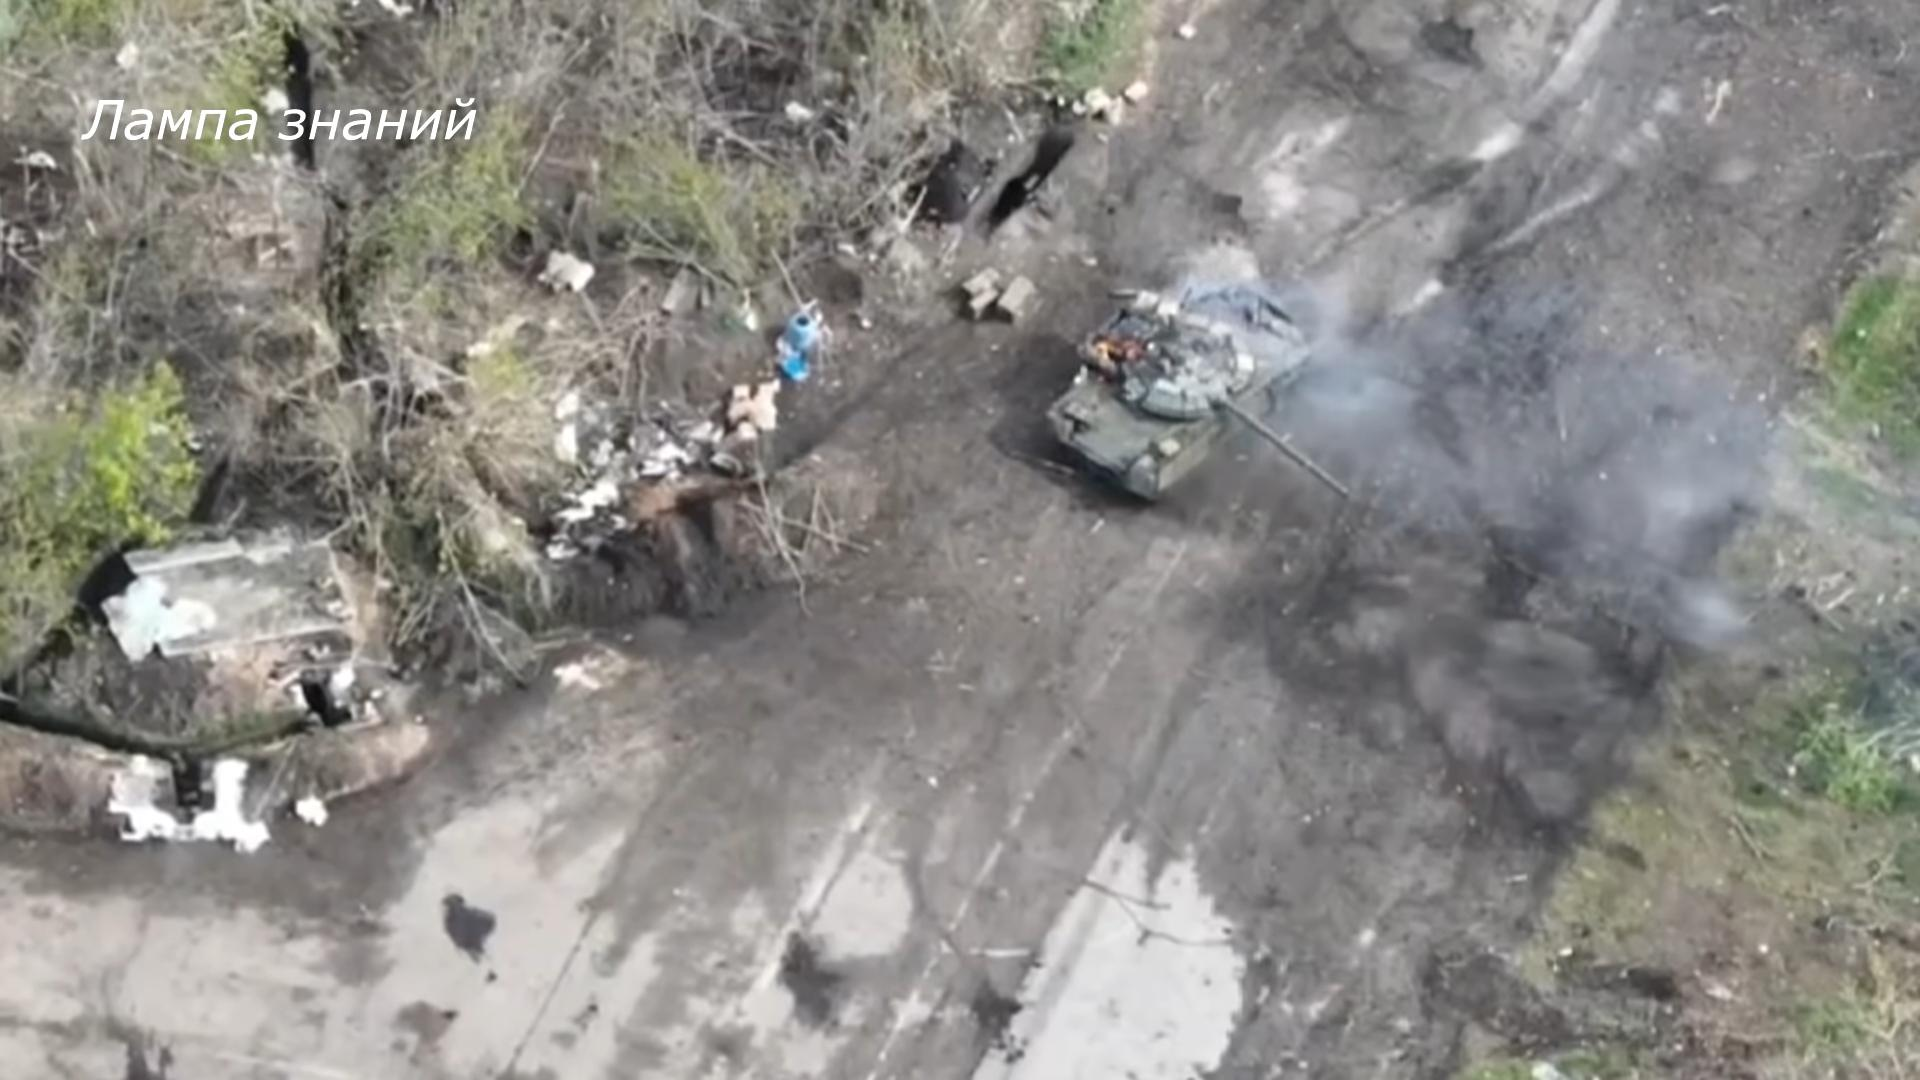tank: (1048, 284, 1349, 501)
